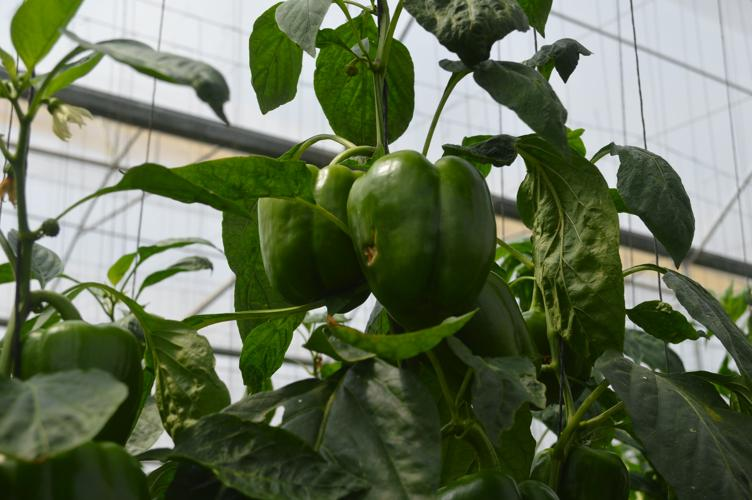BellPepper: (345, 151, 492, 335), (16, 319, 145, 444), (257, 166, 362, 317), (445, 272, 532, 371), (531, 444, 629, 500)
